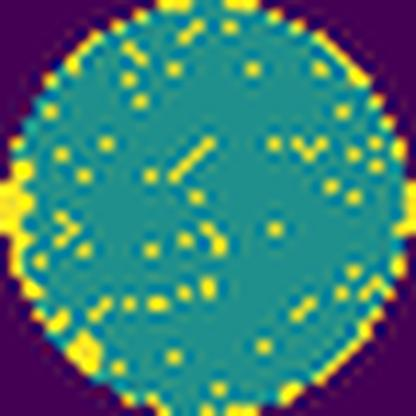Edge-Loc: (0, 154, 50, 302), (63, 326, 110, 374), (391, 178, 416, 242)
